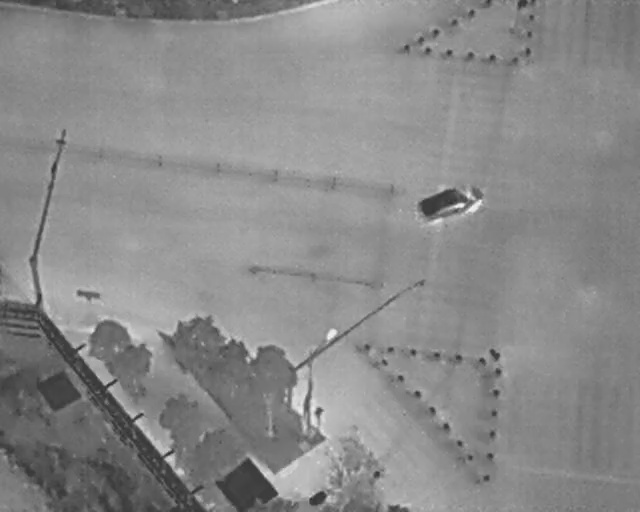Car: (408, 170, 490, 236)
